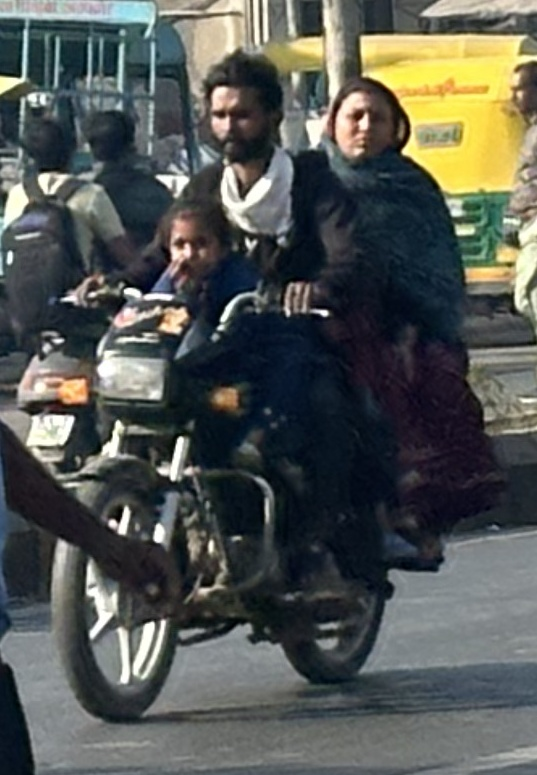BikeWithRider: (36, 37, 513, 703)
NoHelmet: (187, 42, 300, 160), (315, 64, 414, 178), (153, 197, 234, 284)
